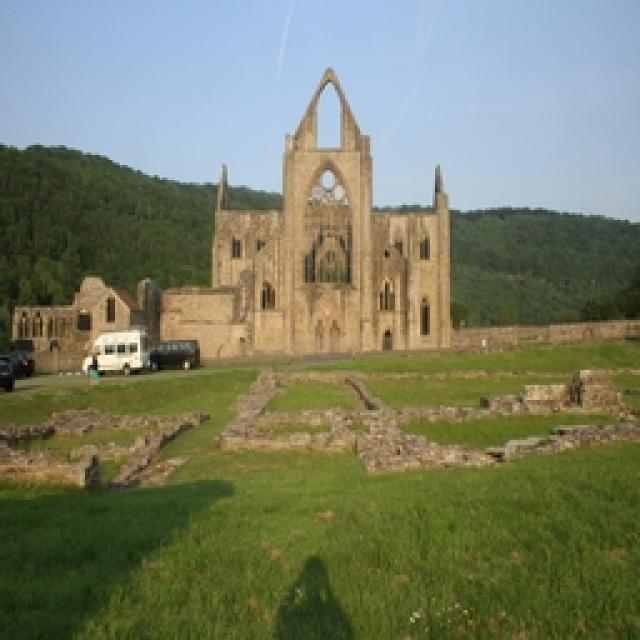Abbey: (217, 70, 478, 361)
